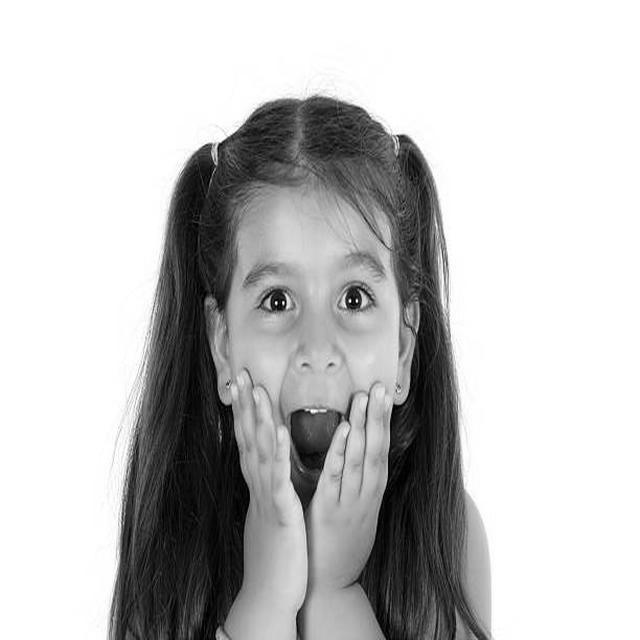Surprised: (229, 183, 400, 532)
